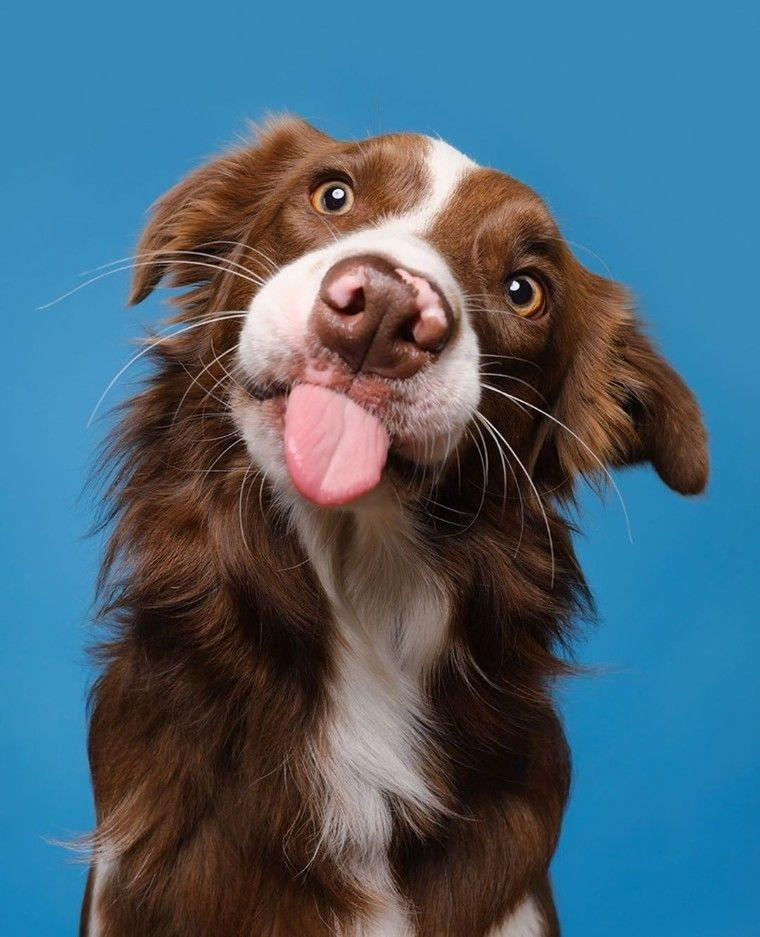adult_dog: (75, 110, 712, 937)
